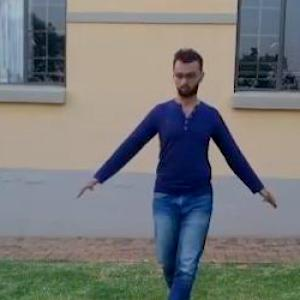land: (76, 29, 271, 299)
